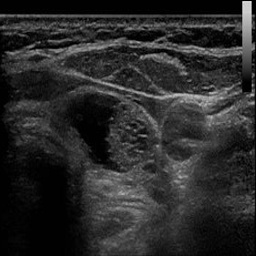mass: (62, 88, 148, 169)
